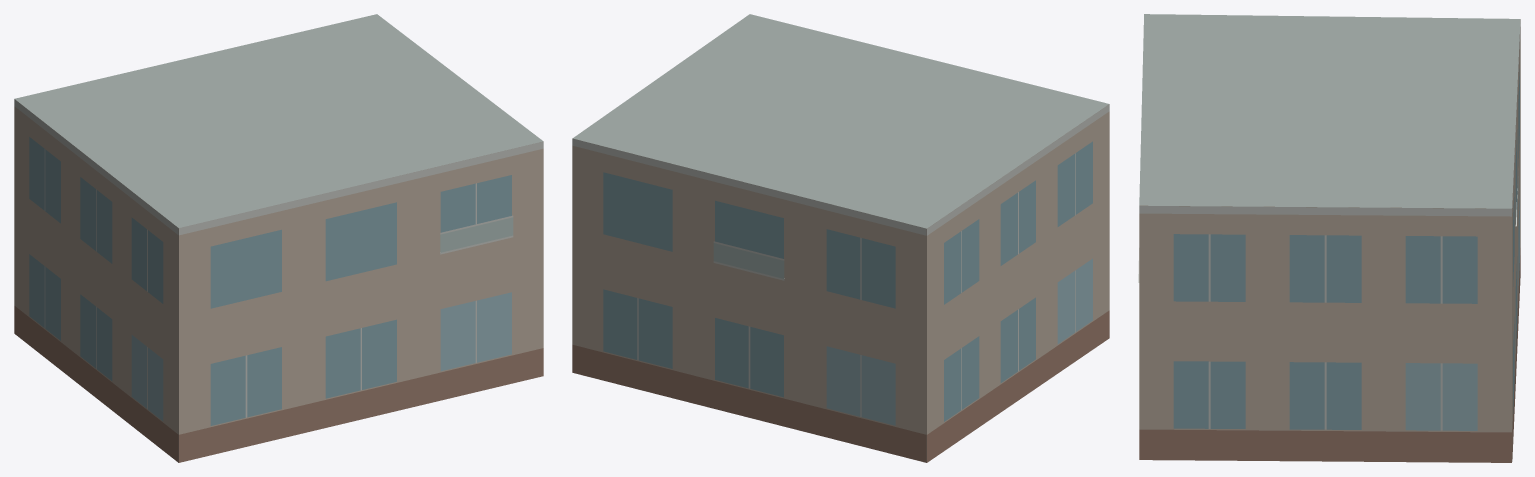
Rendered from survey-upis-32495696.glb.
3 renders of one model, left to right at view 1: azimuth 30°, elevation 25°; view 2: azimuth 150°, elevation 25°; view 3: azimuth 270°, elevation 25°, orthographic. The views are drawn at different scales.
Visible parts, largest first — view 1: survey-upis-32495696.tmp; view 2: survey-upis-32495696.tmp; view 3: survey-upis-32495696.tmp.
Part boxes in pixels (box(x1,y1,x2,y2)): survey-upis-32495696.tmp: box(14, 14, 543, 462); survey-upis-32495696.tmp: box(572, 14, 1109, 462); survey-upis-32495696.tmp: box(1138, 14, 1520, 462).
Size of the model in its own units: 12.98 by 7.9 by 10.77.
